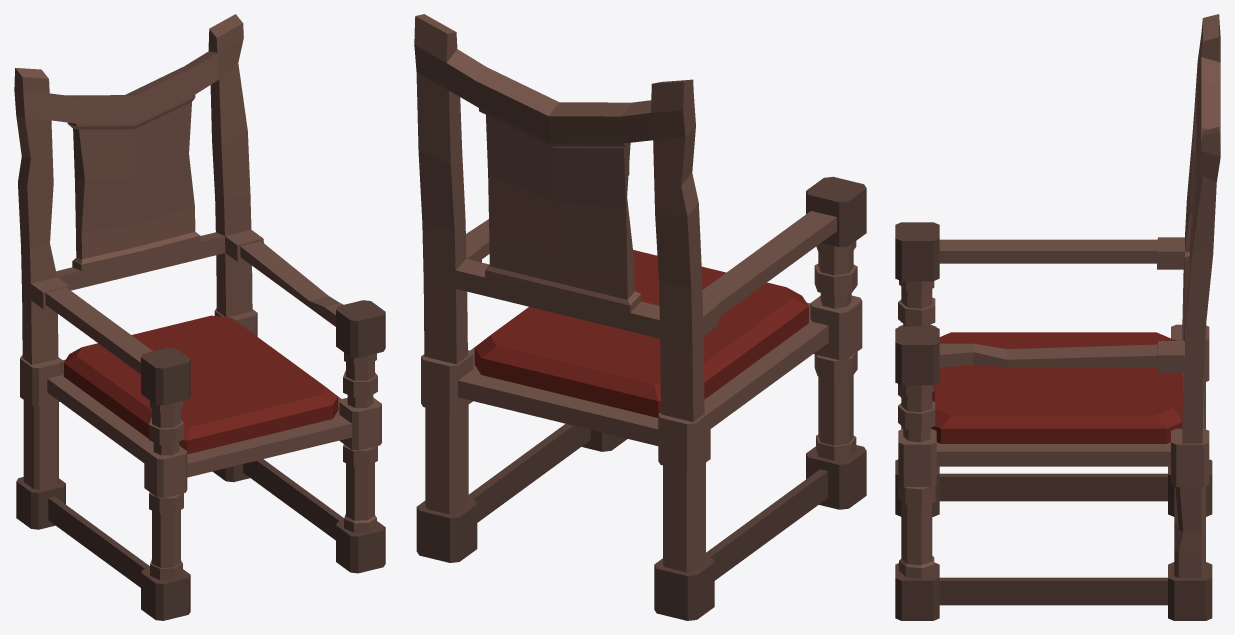
Rendered from Chair.glb.
3 renders of one model, left to right at view 1: azimuth 30°, elevation 25°; view 2: azimuth 150°, elevation 25°; view 3: azimuth 270°, elevation 25°, orthographic. The views are drawn at different scales.
Parts seen in each view (by area): view 1: Chair; view 2: Chair; view 3: Chair.
Boxes of the visible parts, x1=… form: Chair: x1=14, y1=14, x2=385, y2=620; Chair: x1=414, y1=14, x2=866, y2=620; Chair: x1=895, y1=14, x2=1220, y2=620.
Bounding box in the file's own units: 0.1567 × 0.2897 × 0.1756.
